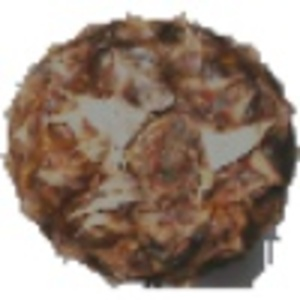abacaxi: (3, 11, 293, 279)
